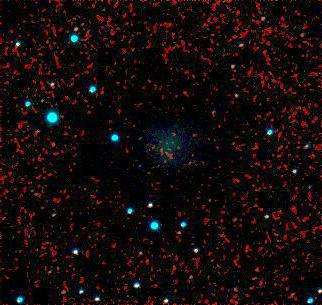star: (39, 128, 69, 158)
